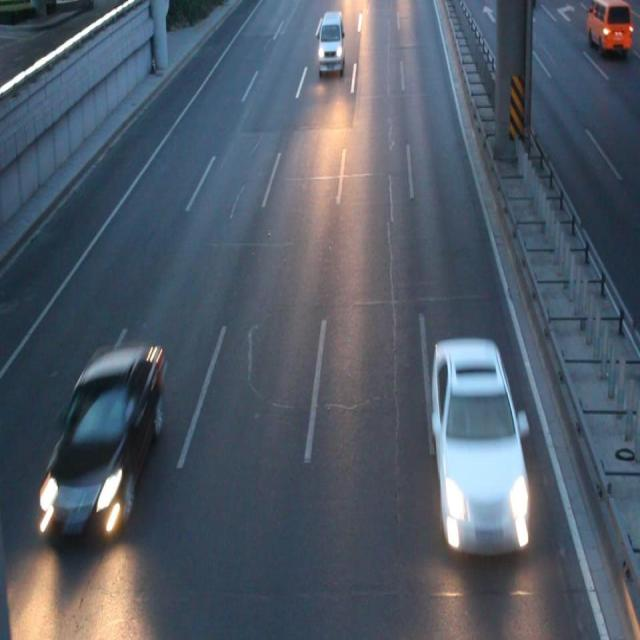car: (39, 343, 165, 523), (431, 336, 527, 541)
truck: (586, 1, 632, 51), (316, 9, 343, 72)
